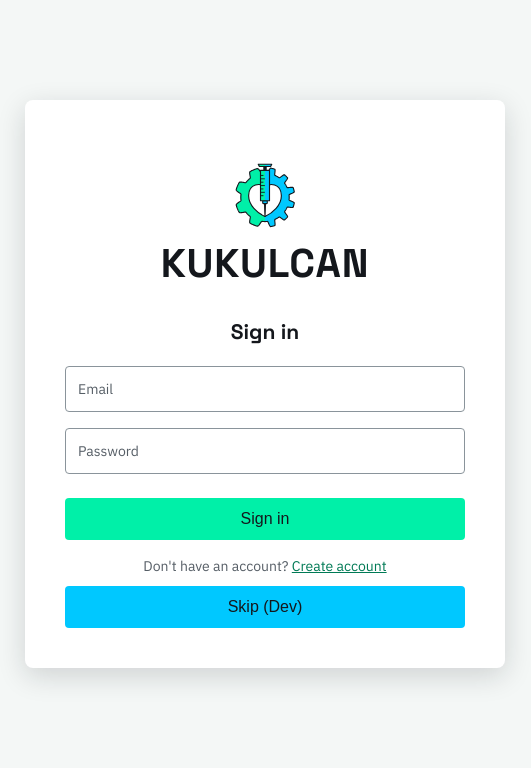
Scenario: Login › positive › an unconfirmed account can resend the confirmation email
Type "  New@Example.com " into the field with placeholder "Email" at (265, 389), box [65, 366, 465, 412]
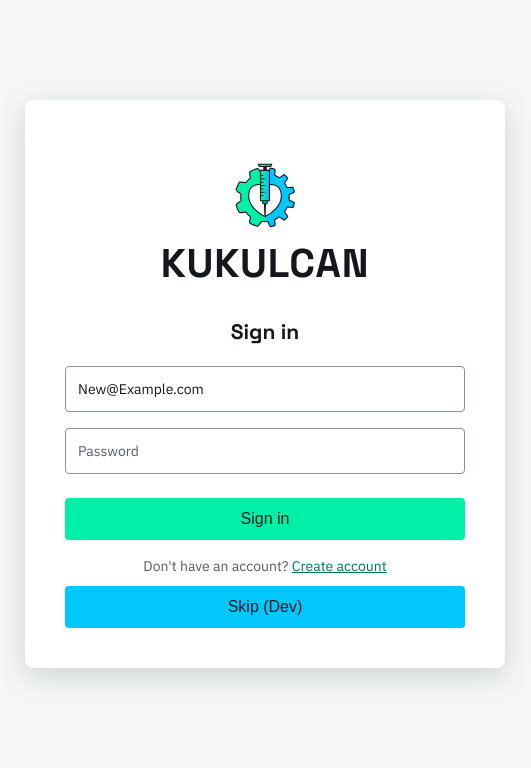
Type "Planta2026" into the password field with placeholder "Password" at (265, 451), box [65, 428, 465, 474]
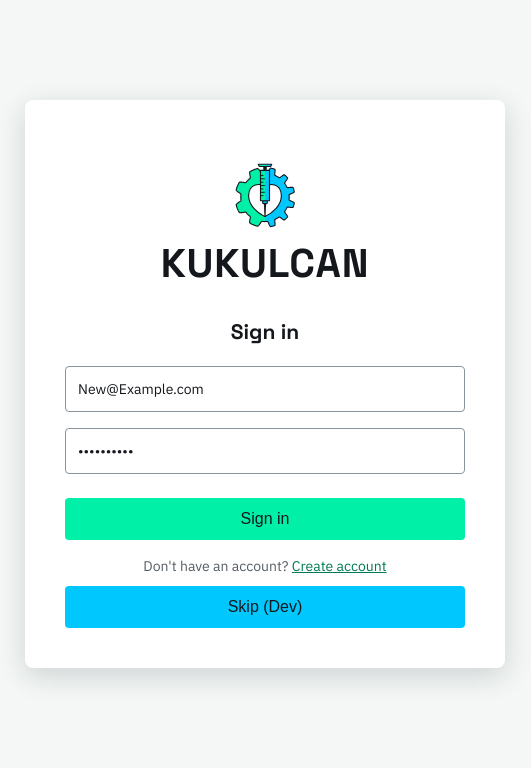
Click the button "Sign in" at (265, 519), box [65, 498, 465, 540]
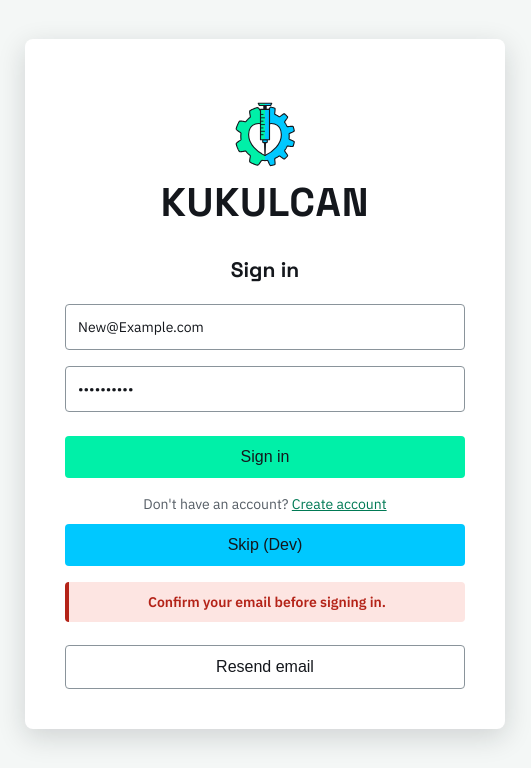
Expected: the text "Confirm your email before signing in." is shown, [65, 582, 465, 622]
Click the button "Resend email" at (265, 667), box [65, 645, 465, 689]
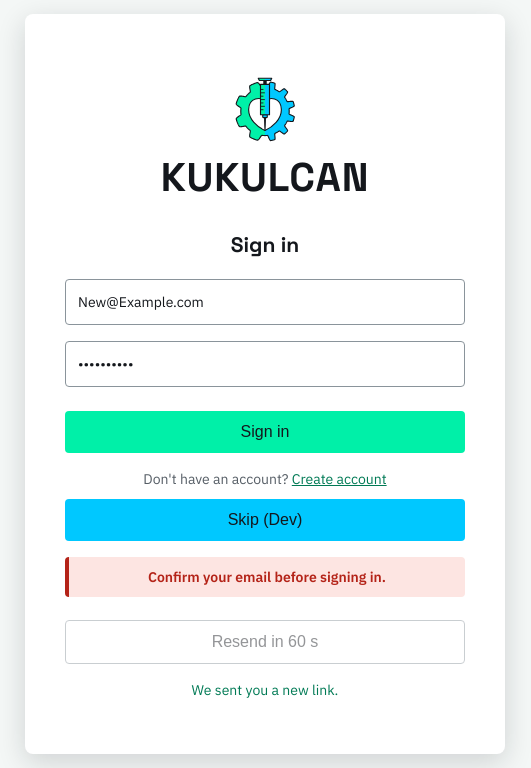
Expected: the text "We sent you a new link." is shown, [192, 681, 338, 699]
